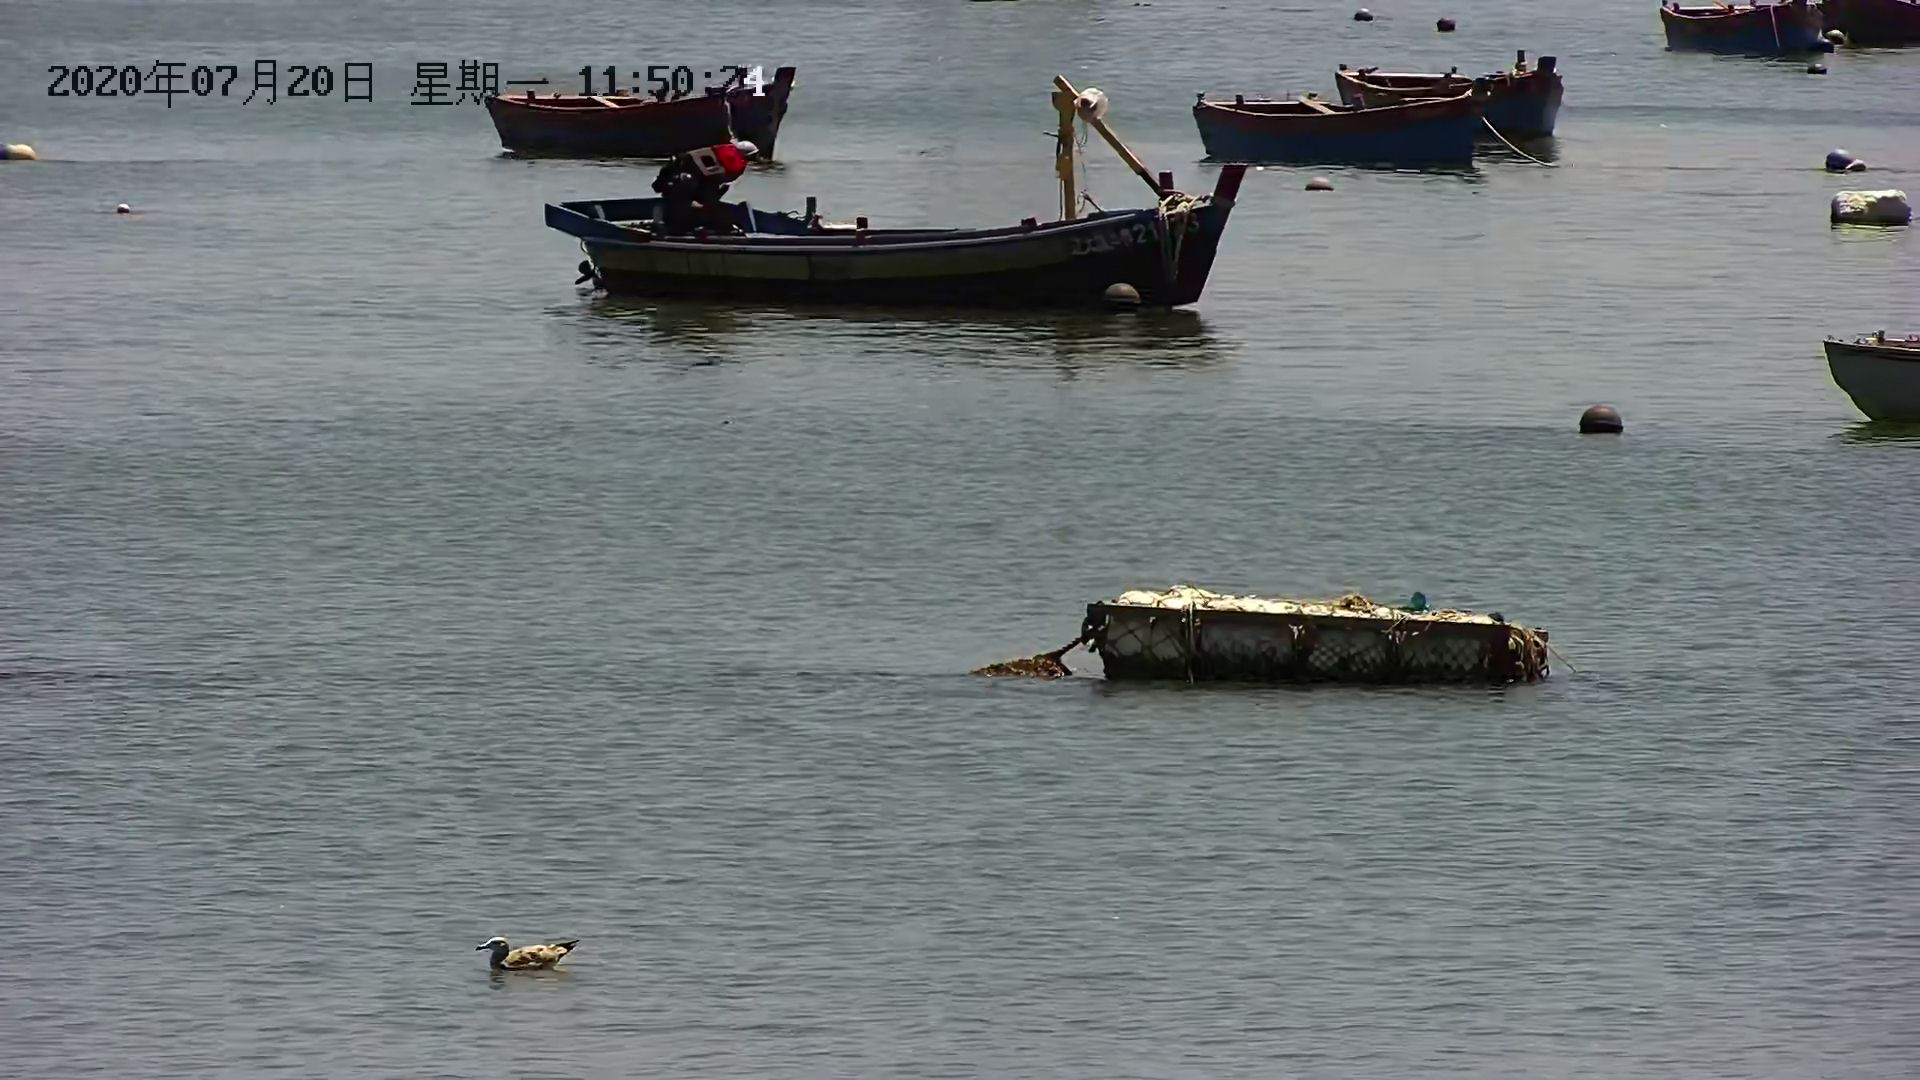animal: (473, 927, 591, 982)
ball: (1577, 398, 1631, 440), (1104, 277, 1142, 322)
boat: (543, 185, 1224, 318), (483, 65, 791, 170), (1164, 78, 1478, 174)
platform: (1073, 575, 1557, 694)
rubbish: (1816, 182, 1919, 239), (1, 137, 44, 169)
